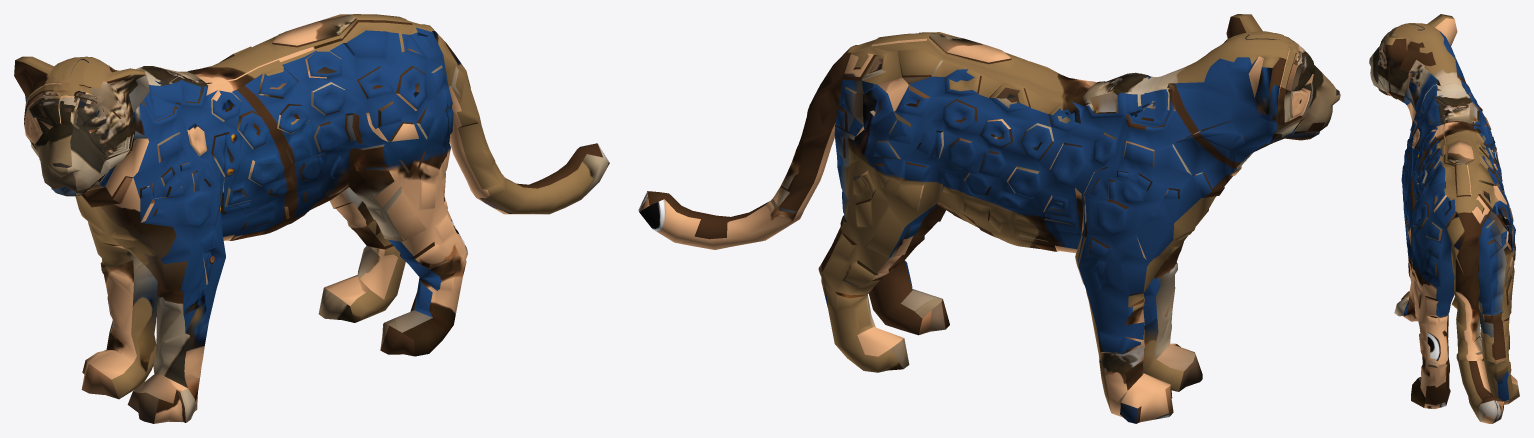
The model's file is leopardo.fbx.
The picture shows the model from 3 angles, left to right: view 1: azimuth 30°, elevation 25°; view 2: azimuth 150°, elevation 25°; view 3: azimuth 270°, elevation 25°; orthographic projection. The views are drawn at different scales.
Visible parts, largest first — view 1: mesh_rep_0_ori_repair_quad; view 2: mesh_rep_0_ori_repair_quad; view 3: mesh_rep_0_ori_repair_quad.
Part boxes in pixels (x1,y1,x2,y2): mesh_rep_0_ori_repair_quad: [14, 14, 609, 423]; mesh_rep_0_ori_repair_quad: [638, 14, 1340, 423]; mesh_rep_0_ori_repair_quad: [1369, 14, 1519, 423].
Size of the model in its own units: 109 by 60.91 by 32.31.
